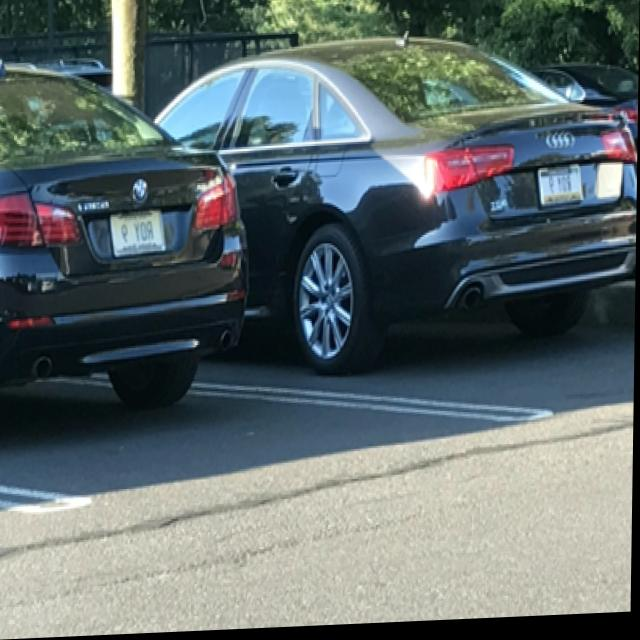licence: (115, 205, 164, 261)
